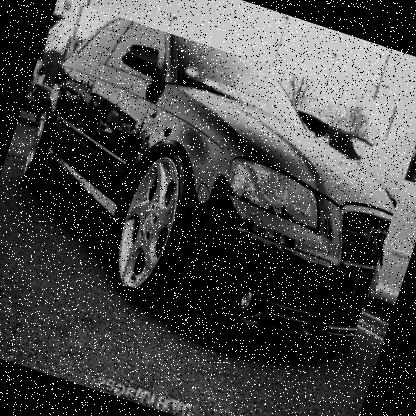Car: (0, 4, 415, 359), (296, 105, 415, 309), (22, 78, 54, 116)
